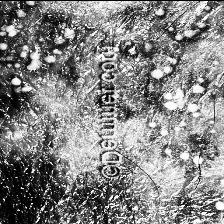Non-Cancerous Skin Condition: (0, 0, 77, 67), (160, 88, 200, 114), (150, 64, 176, 78)
